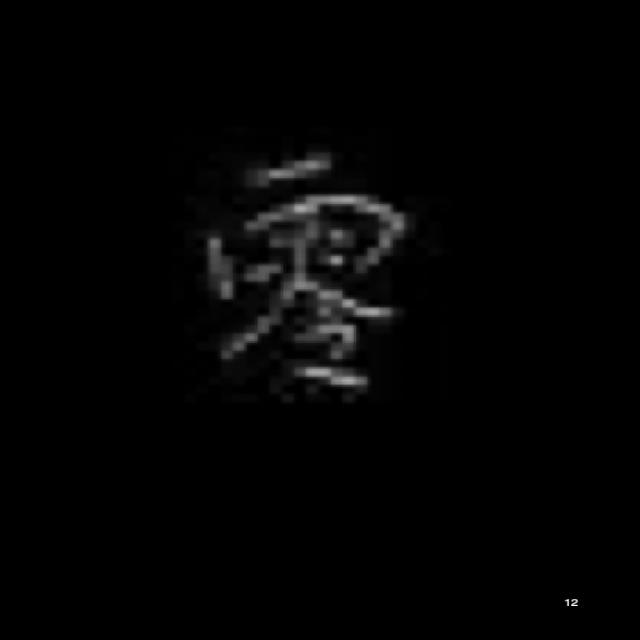0 -zero-: (186, 143, 424, 402)
